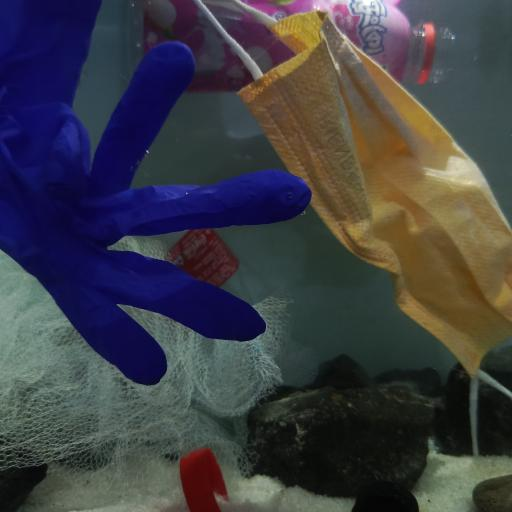bottle_cap: (178, 444, 231, 512), (350, 480, 417, 512)
glove: (2, 0, 314, 385)
mask: (235, 0, 512, 391)
net: (1, 230, 290, 488)
plastic_bottle: (130, 1, 456, 94), (138, 212, 263, 310)
